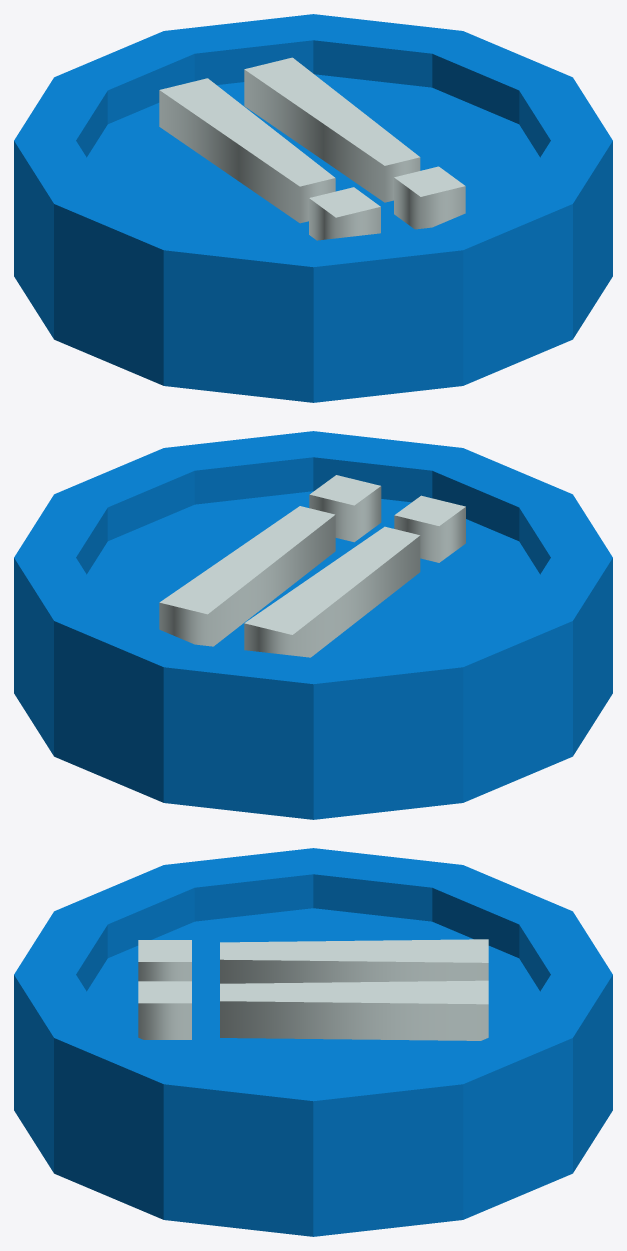
Rendered from PowerUpActullyFinal.fbx.
3 views of the same model, one above another, from view 1: azimuth 30°, elevation 25°; view 2: azimuth 150°, elevation 25°; view 3: azimuth 270°, elevation 25° (orthographic).
Parts seen in each view (by area): view 1: Text; view 2: Text; view 3: Text.
Part boxes in pixels (bbox=[...]): Text: bbox=[14, 14, 612, 402]; Text: bbox=[14, 431, 612, 819]; Text: bbox=[14, 848, 612, 1236].
Size of the model in its own units: 200 by 52.1 by 200.
